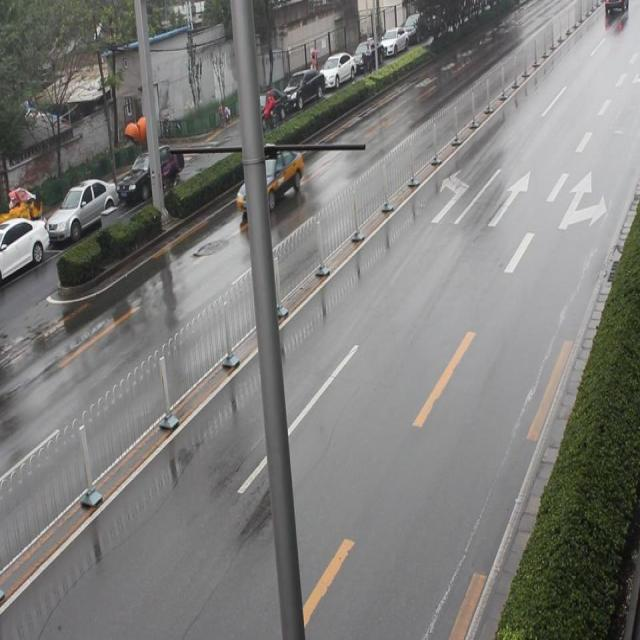car: (233, 140, 306, 217)
